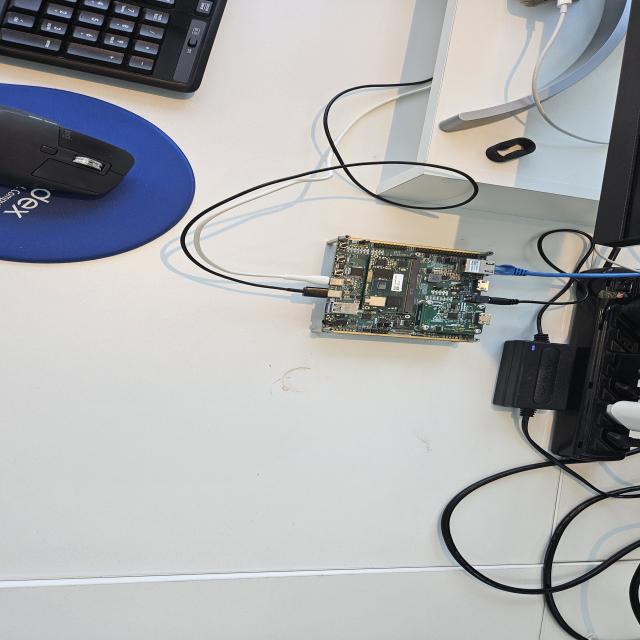som: (355, 252, 422, 317)
